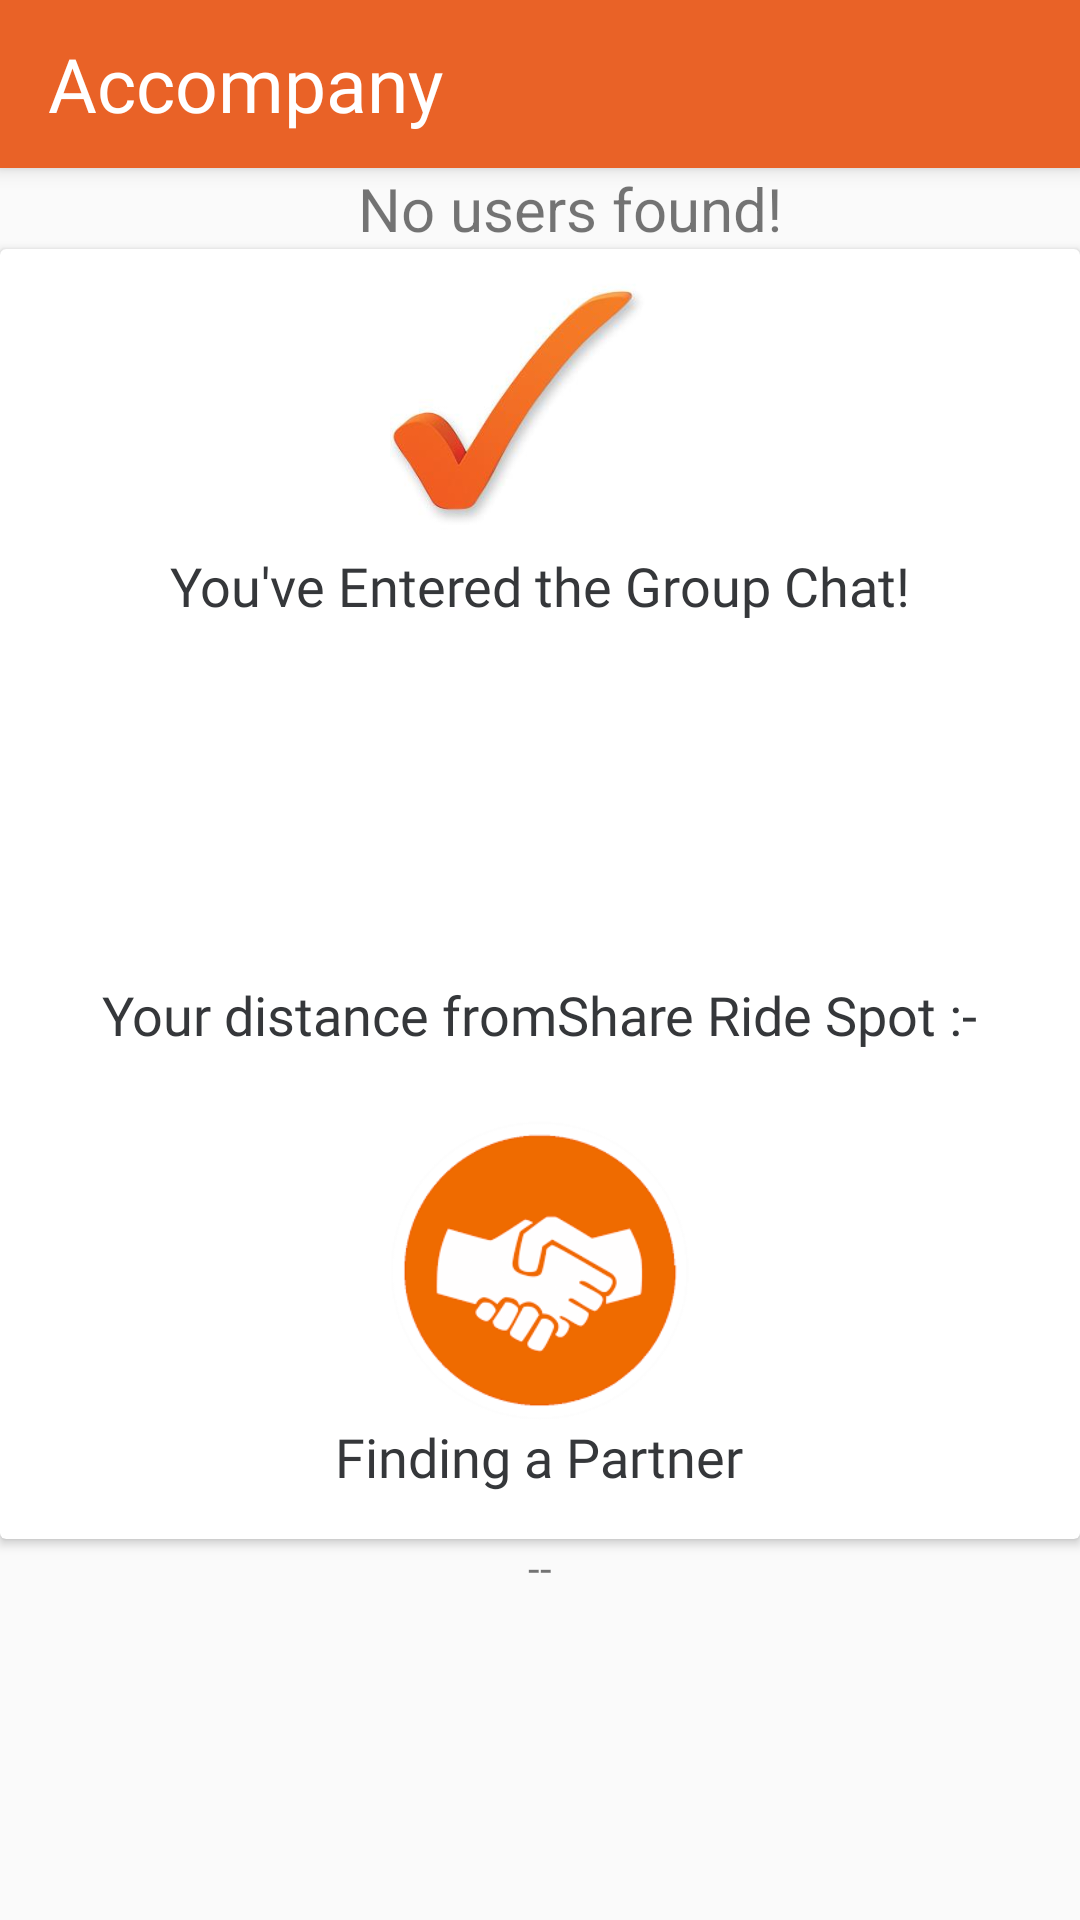

Where to tap for icons on this 1080×1920 app screen, as (x=x, y=y):
tickmark: (x=514, y=403)
